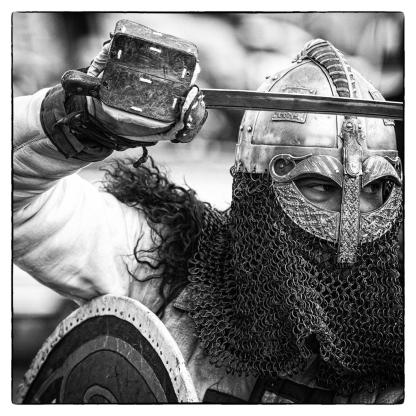Helmet: (186, 37, 404, 391)
